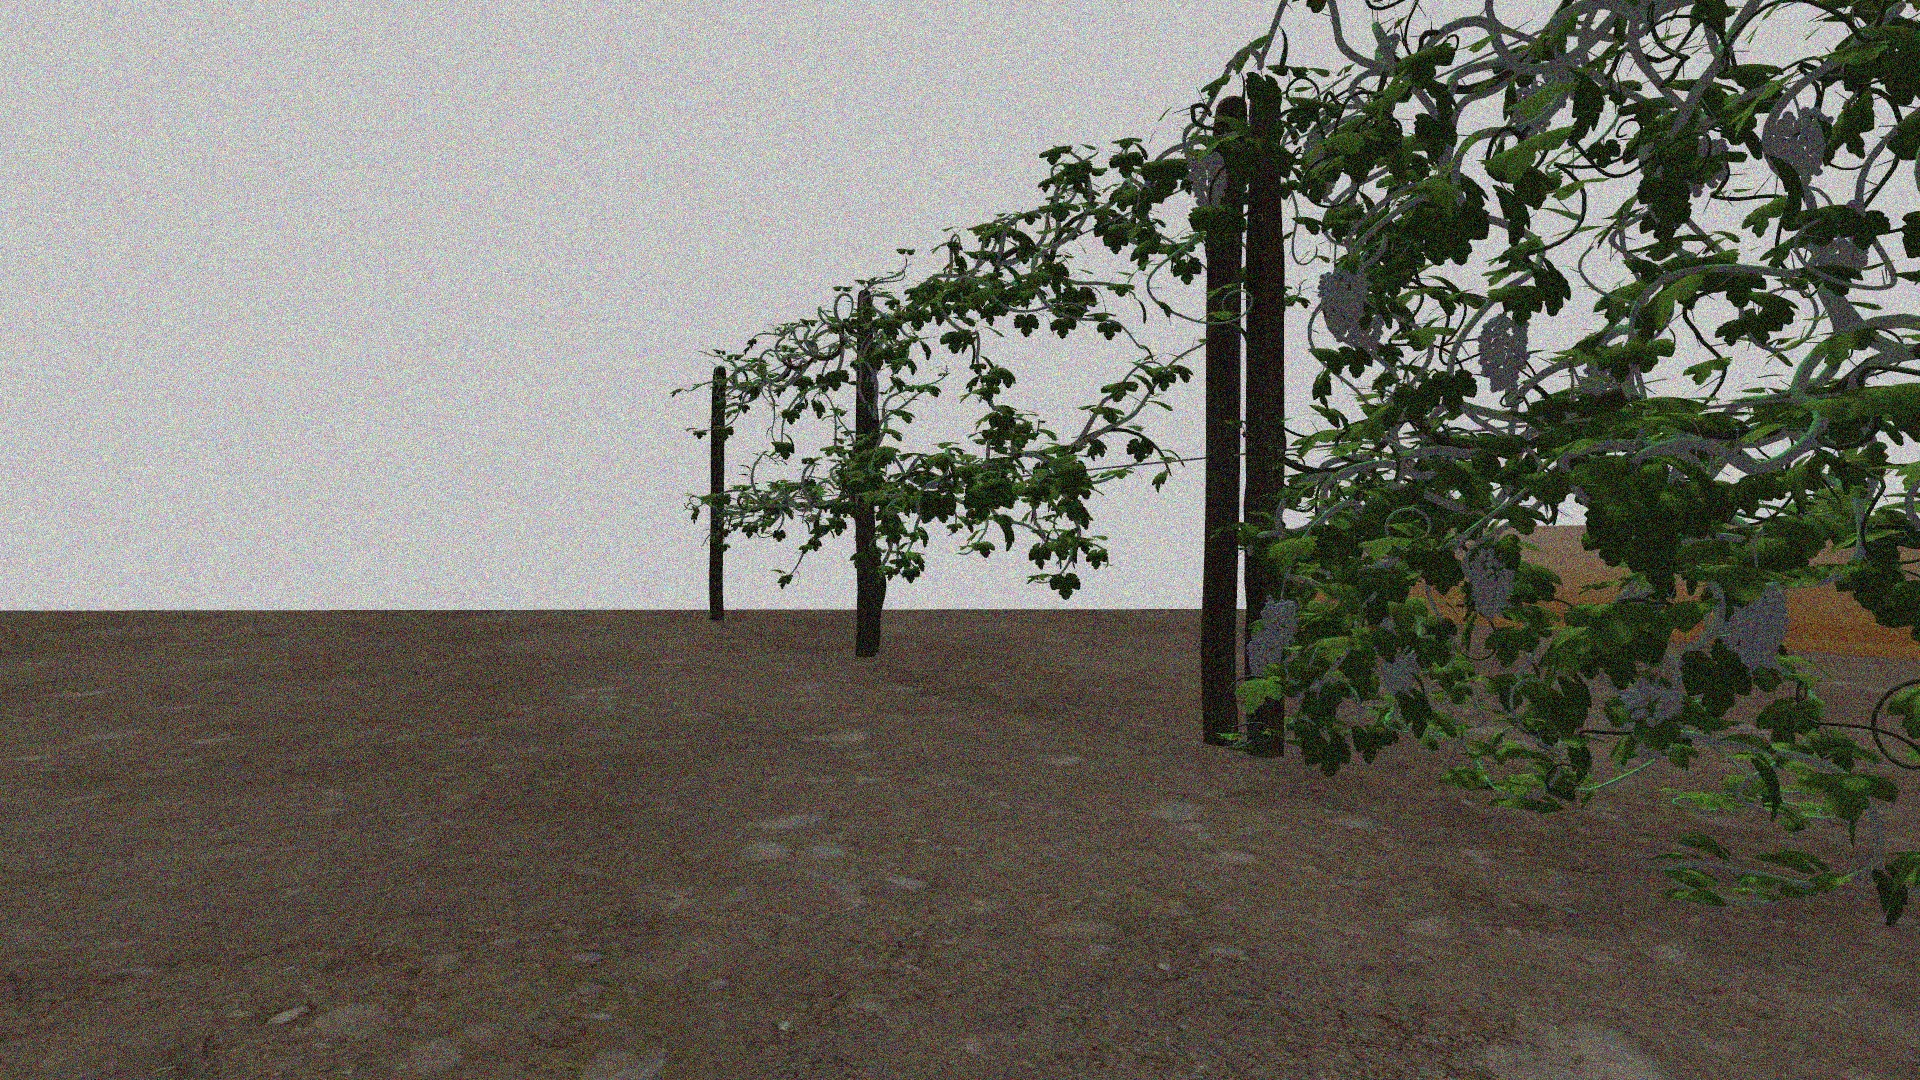grape: (1725, 585, 1791, 673), (1771, 107, 1832, 183), (1477, 316, 1531, 392), (1466, 545, 1516, 622), (1316, 266, 1367, 342), (1623, 678, 1684, 729), (1188, 152, 1229, 212), (1261, 597, 1298, 651), (1378, 649, 1419, 695), (1247, 638, 1283, 679)
